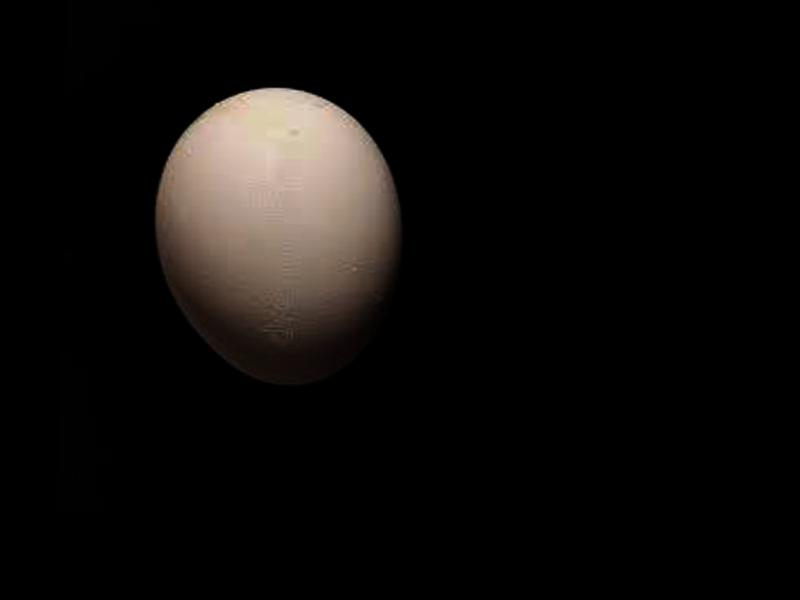Eggs: (152, 82, 403, 386)
